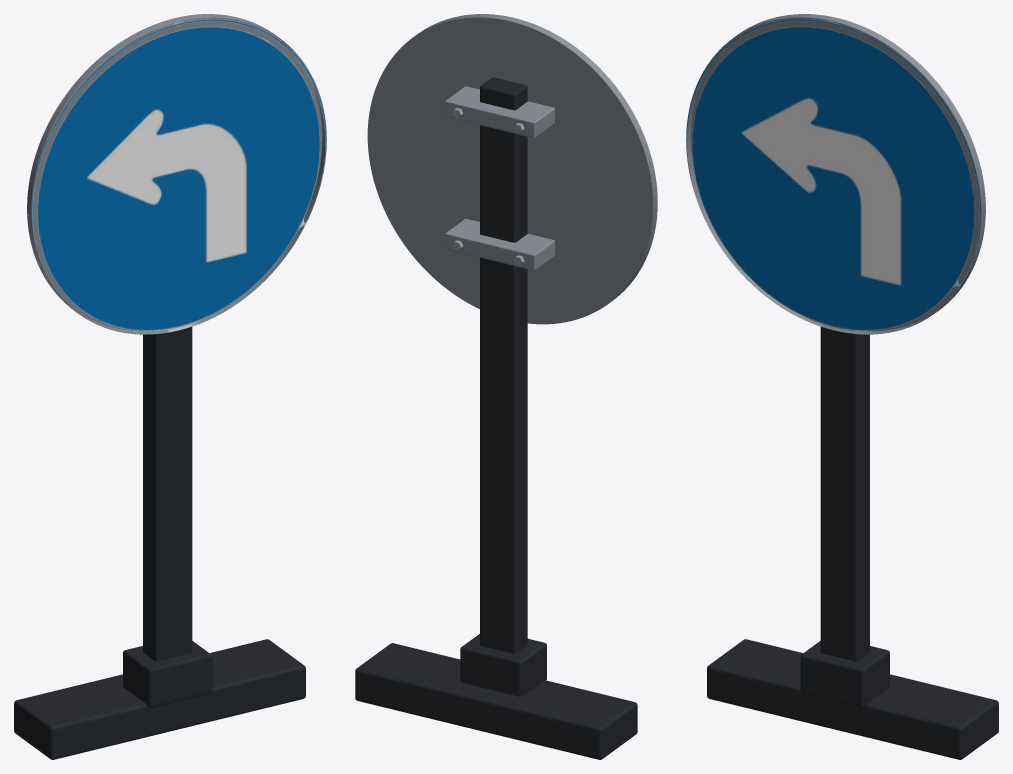
3 renders of one model, left to right at view 1: azimuth 30°, elevation 25°; view 2: azimuth 150°, elevation 25°; view 3: azimuth 330°, elevation 25°, orthographic. The views are drawn at different scales.
Visible parts, largest first — view 1: g3, g0, g2; view 2: g2, g0; view 3: g3, g0, g2.
Boxes of the visible parts, x1,y1,x2,y2 form: g3: (31, 18, 326, 332); g0: (14, 327, 305, 759); g2: (27, 14, 326, 334); g2: (367, 14, 657, 324); g0: (355, 77, 637, 759); g3: (686, 18, 981, 333); g0: (707, 327, 998, 759); g2: (686, 14, 985, 334).
Size of the model in its own units: 0.1111 by 0.0265 by 0.2545.
Materials: 4 (1 with a texture image).
